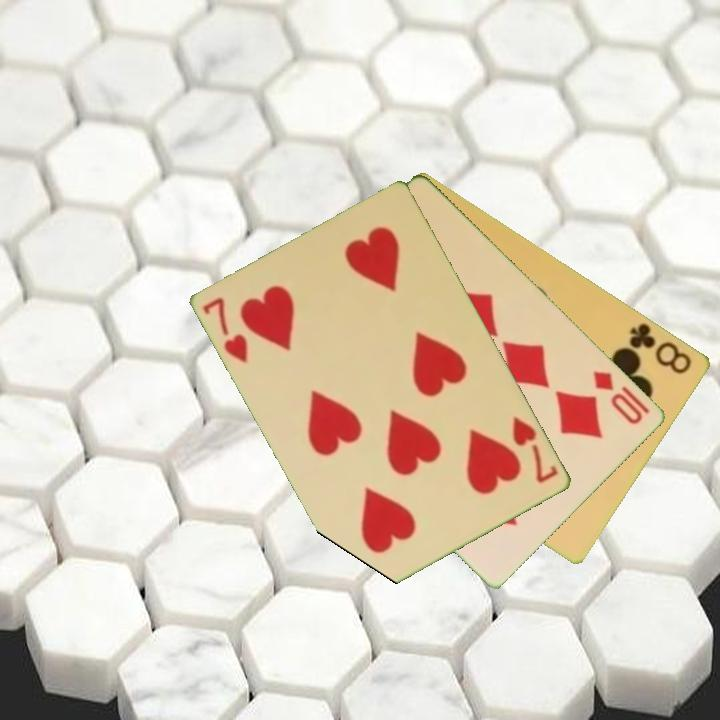10d: (589, 367, 654, 428)
7h: (509, 413, 562, 487), (200, 294, 252, 367)
8c: (626, 319, 696, 377)
